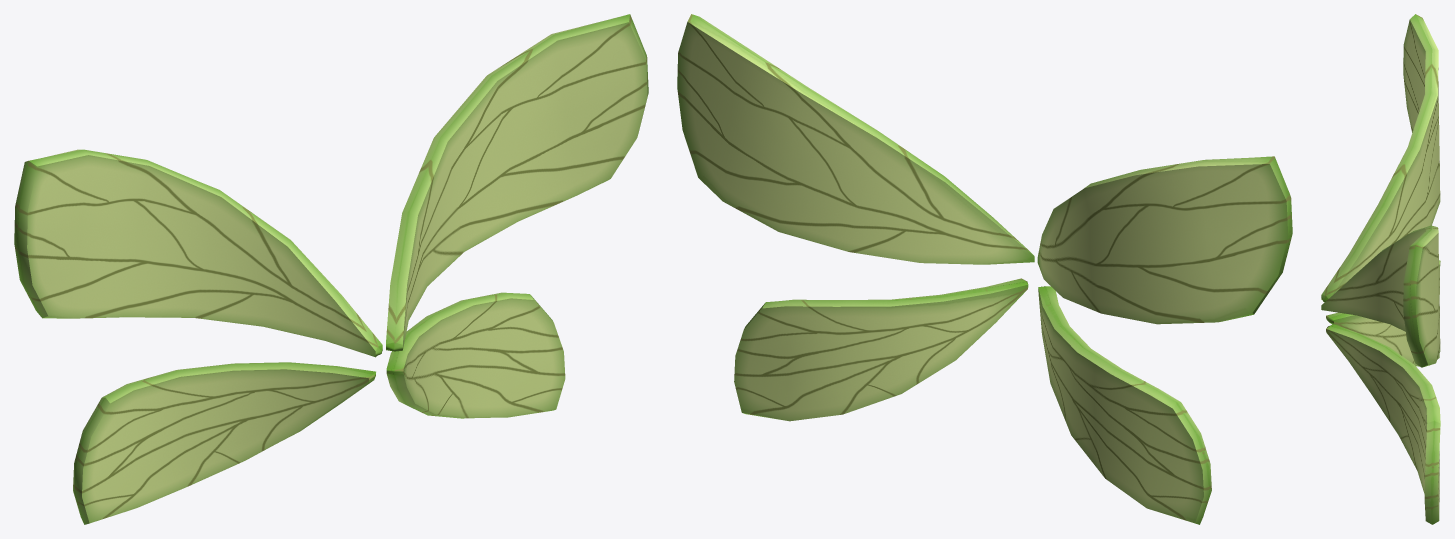
File: WingB.FBX
3 views of the same model, side by side, from view 1: azimuth 30°, elevation 25°; view 2: azimuth 150°, elevation 25°; view 3: azimuth 270°, elevation 25° (orthographic). The views are drawn at different scales.
Parts seen in each view (by area): view 1: Wing_B; view 2: Wing_B; view 3: Wing_B.
Part boxes in pixels (bbox=[...]): Wing_B: bbox=[14, 14, 648, 524]; Wing_B: bbox=[677, 14, 1292, 524]; Wing_B: bbox=[1321, 14, 1440, 524].
Bounding box in the file's own units: 403 × 237 × 83.99.
